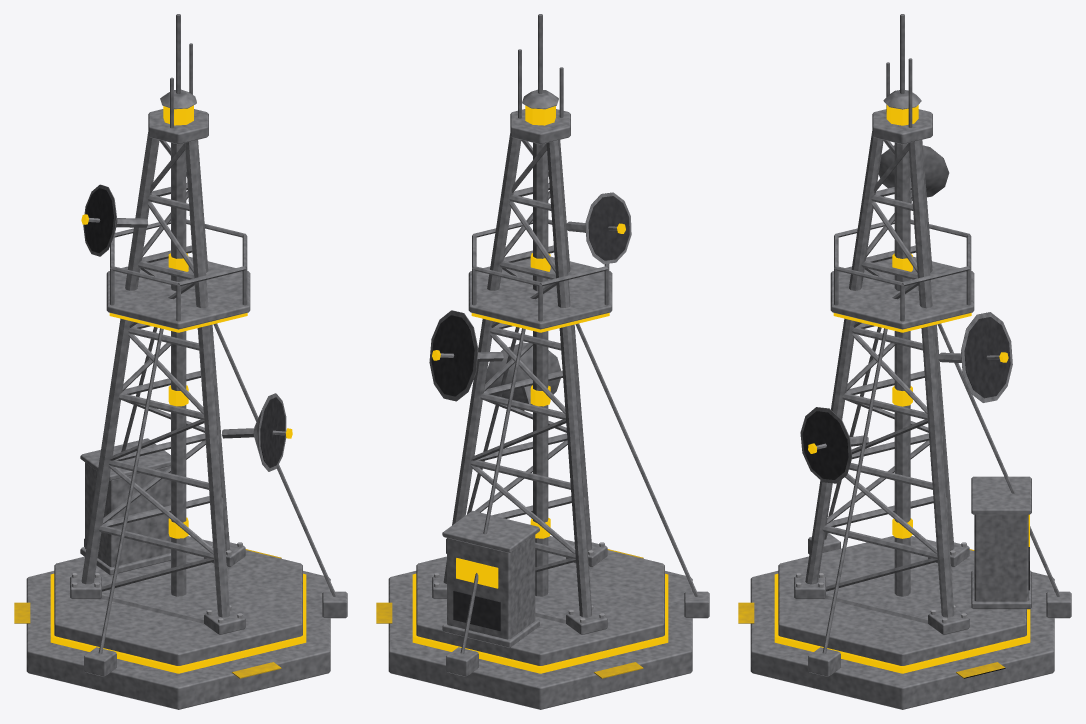
The model's file is nodexeus-mast.glb.
3 renders of one model, left to right at view 1: azimuth 30°, elevation 25°; view 2: azimuth 150°, elevation 25°; view 3: azimuth 270°, elevation 25°, orthographic.
Visible parts, largest first — view 1: mast; view 2: mast; view 3: mast.
Part boxes in pixels (left/top/right/bottom): mast: left=14, top=14, right=347, bottom=709; mast: left=376, top=14, right=709, bottom=709; mast: left=738, top=14, right=1071, bottom=709.
Size of the model in its own units: 2.19 by 4.3 by 2.09.
1 material, 1 textured.
